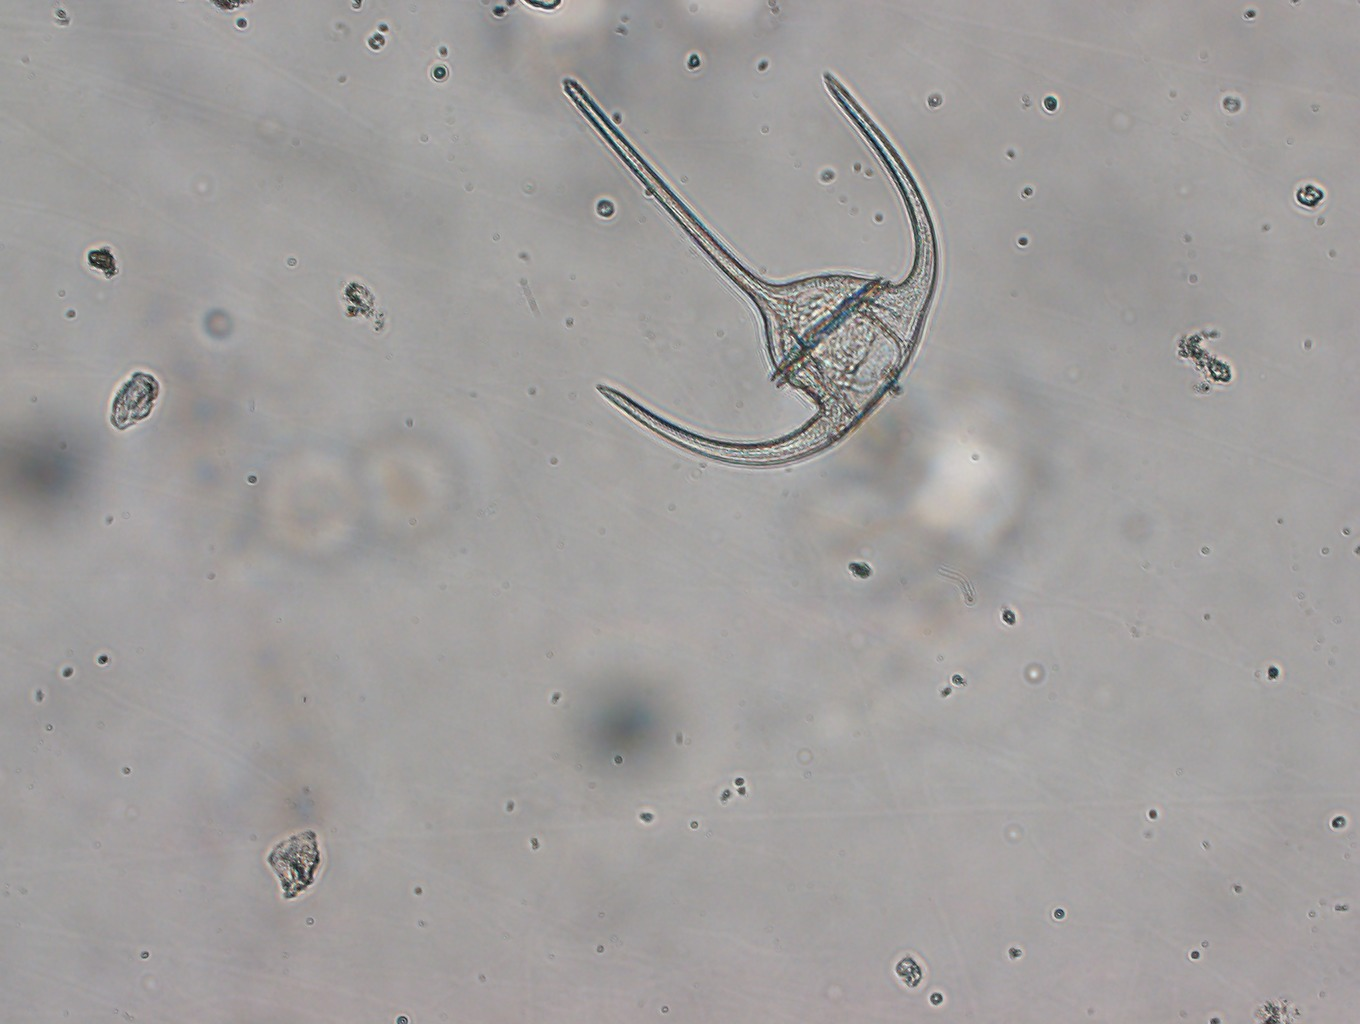ceratium tripos: (552, 65, 946, 473)
